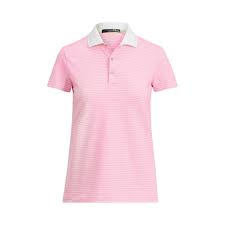C_polo shirt: (49, 23, 176, 206)
